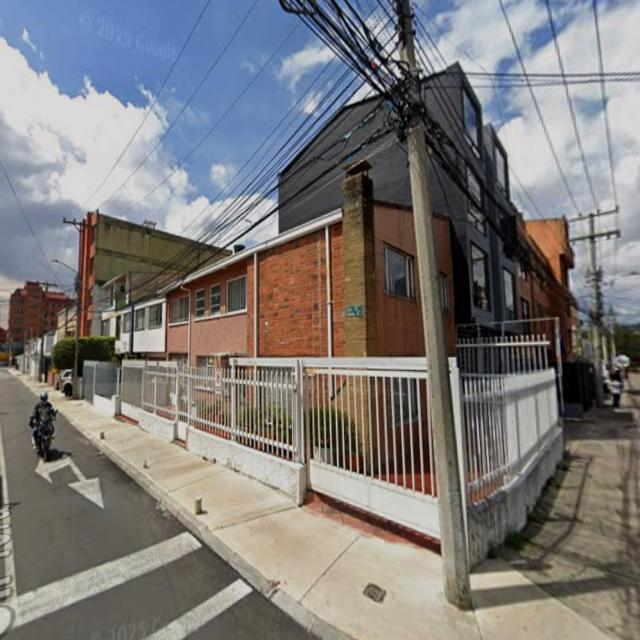fachada: (104, 163, 424, 365), (422, 64, 572, 353), (79, 212, 227, 336), (9, 282, 73, 342), (56, 305, 76, 342), (0, 328, 8, 344)
poste: (398, 0, 471, 609), (589, 213, 604, 406), (73, 223, 84, 399)
